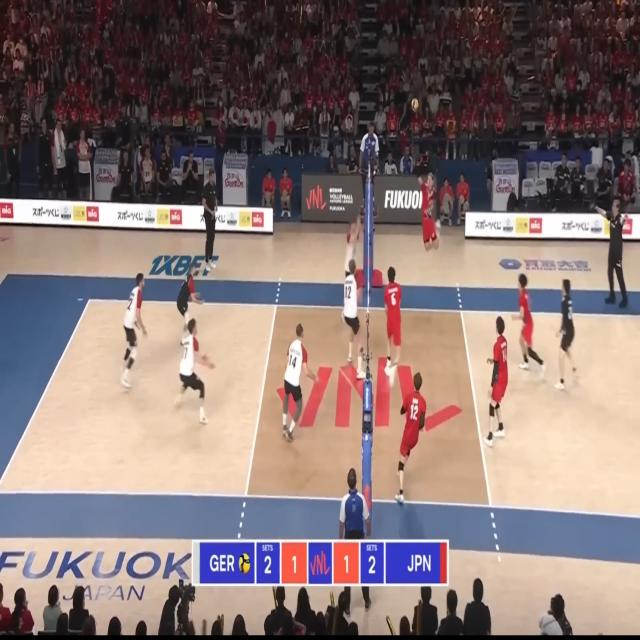ball: (412, 98, 418, 112)
